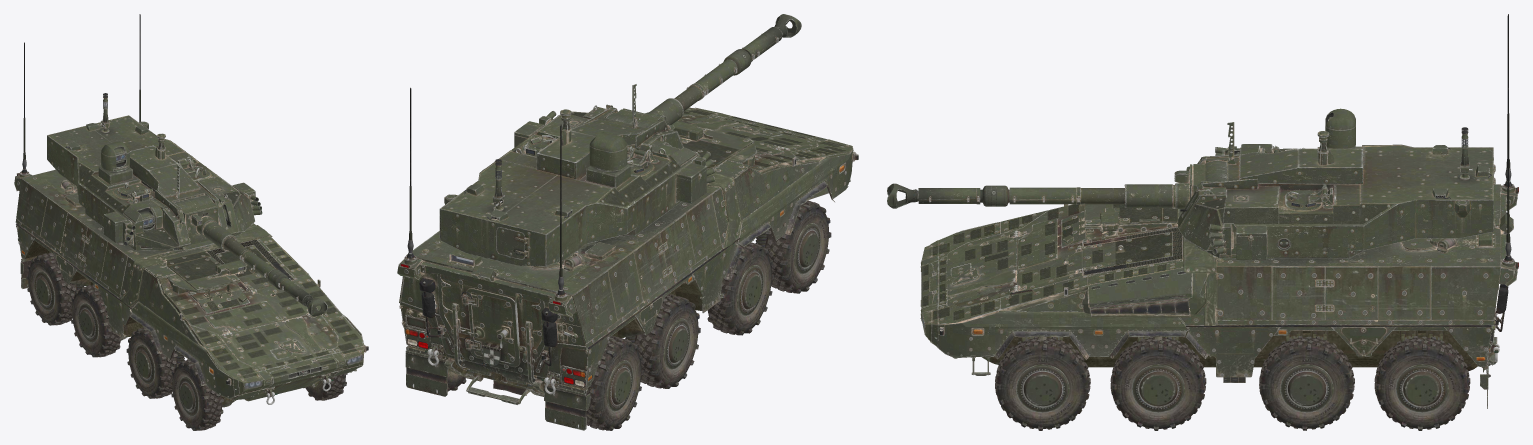
File: boxer_mgs.glb
3 renders of one model, left to right at view 1: azimuth 30°, elevation 25°; view 2: azimuth 150°, elevation 25°; view 3: azimuth 270°, elevation 25°, orthographic. The views are drawn at different scales.
Parts seen in each view (by area): view 1: Object_18, Object_11, Object_19, Object_27, Object_20, Object_21, Object_9, Object_24, Object_12, Object_25, Object_10, Object_23 (+2 smaller); view 2: Object_11, Object_19, Object_18, Object_26, Object_20, Object_21, Object_27, Object_24, Object_9, Object_12, Object_10, Object_15 (+1 smaller); view 3: Object_19, Object_11, Object_18, Object_22, Object_23, Object_27, Object_9, Object_24, Object_25, Object_12, Object_10, Object_15 (+1 smaller).
Boxes of the visible parts, x1,y1,x2,y2 form: Object_18: [14, 173, 368, 400]; Object_11: [47, 115, 262, 250]; Object_19: [14, 169, 368, 401]; Object_27: [60, 212, 337, 367]; Object_20: [26, 252, 122, 357]; Object_21: [126, 327, 223, 430]; Object_9: [174, 195, 327, 316]; Object_24: [20, 225, 362, 404]; Object_12: [100, 93, 255, 242]; Object_25: [216, 245, 337, 387]; Object_10: [101, 141, 227, 223]; Object_23: [76, 284, 347, 400]; Object_11: [439, 104, 715, 266]; Object_19: [397, 107, 858, 396]; Object_18: [398, 108, 858, 395]; Object_26: [437, 251, 582, 384]; Object_20: [575, 294, 700, 430]; Object_21: [707, 200, 831, 335]; Object_27: [633, 115, 817, 313]; Object_24: [405, 173, 741, 430]; Object_9: [606, 14, 801, 127]; Object_12: [492, 84, 706, 259]; Object_10: [589, 132, 627, 171]; Object_15: [407, 87, 563, 289]; Object_19: [920, 181, 1518, 382]; Object_11: [1178, 131, 1495, 258]; Object_18: [920, 186, 1518, 382]; Object_22: [1259, 335, 1470, 430]; Object_23: [995, 331, 1206, 430]; Object_27: [947, 204, 1377, 319]; Object_9: [887, 160, 1227, 208]; Object_24: [930, 209, 1509, 408]; Object_25: [920, 232, 1173, 340]; Object_12: [1227, 122, 1495, 259]; Object_10: [1325, 108, 1355, 148]; Object_15: [1505, 14, 1511, 255].
Size of the model in its own units: 3.15 by 5.06 by 8.64.
13 materials, 13 textured.
